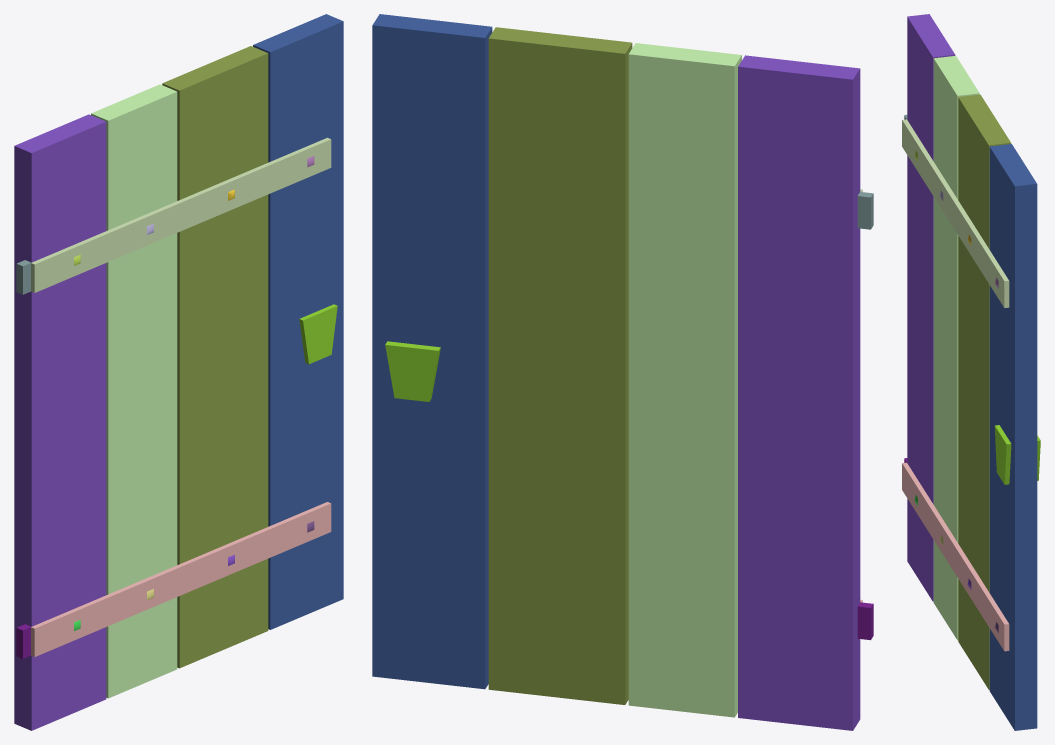
3 views of the same model, side by side, from view 1: azimuth 30°, elevation 25°; view 2: azimuth 150°, elevation 25°; view 3: azimuth 270°, elevation 25° (orthographic). The views are drawn at different scales.
Visible parts, largest first — view 1: Plane106_wood_0.003, Plane106_wood_0.002, Plane106_wood_0.001, Plane106_wood_0, Plane106_metal_0.005, Plane106_metal_0, Plane106_metal_0.020; view 2: Plane106_wood_0.002, Plane106_wood_0.003, Plane106_wood_0.001, Plane106_wood_0, Plane106_metal_0.020; view 3: Plane106_wood_0.001, Plane106_wood_0.002, Plane106_wood_0.003, Plane106_wood_0, Plane106_metal_0, Plane106_metal_0.005, Plane106_metal_0.020.
Boxes of the visible parts, bbox=[...] form: Plane106_wood_0.003: bbox=[14, 114, 106, 730]; Plane106_wood_0.002: bbox=[162, 46, 268, 668]; Plane106_wood_0.001: bbox=[253, 14, 343, 629]; Plane106_wood_0: bbox=[91, 84, 177, 698]; Plane106_metal_0.005: bbox=[31, 502, 331, 657]; Plane106_metal_0: bbox=[31, 137, 331, 292]; Plane106_metal_0.020: bbox=[299, 304, 337, 364]; Plane106_wood_0.002: bbox=[488, 27, 632, 704]; Plane106_wood_0.003: bbox=[738, 55, 860, 730]; Plane106_wood_0.001: bbox=[372, 14, 492, 689]; Plane106_wood_0: bbox=[628, 43, 741, 717]; Plane106_metal_0.020: bbox=[385, 341, 440, 401]; Plane106_wood_0.001: bbox=[989, 144, 1037, 730]; Plane106_wood_0.002: bbox=[958, 94, 1011, 689]; Plane106_wood_0.003: bbox=[907, 14, 955, 601]; Plane106_wood_0: bbox=[933, 56, 979, 640]; Plane106_metal_0: bbox=[902, 119, 1009, 307]; Plane106_metal_0.005: bbox=[902, 462, 1009, 651]; Plane106_metal_0.020: bbox=[994, 425, 1040, 484].
Size of the model in its own units: 0.691 by 1 by 0.2308.
